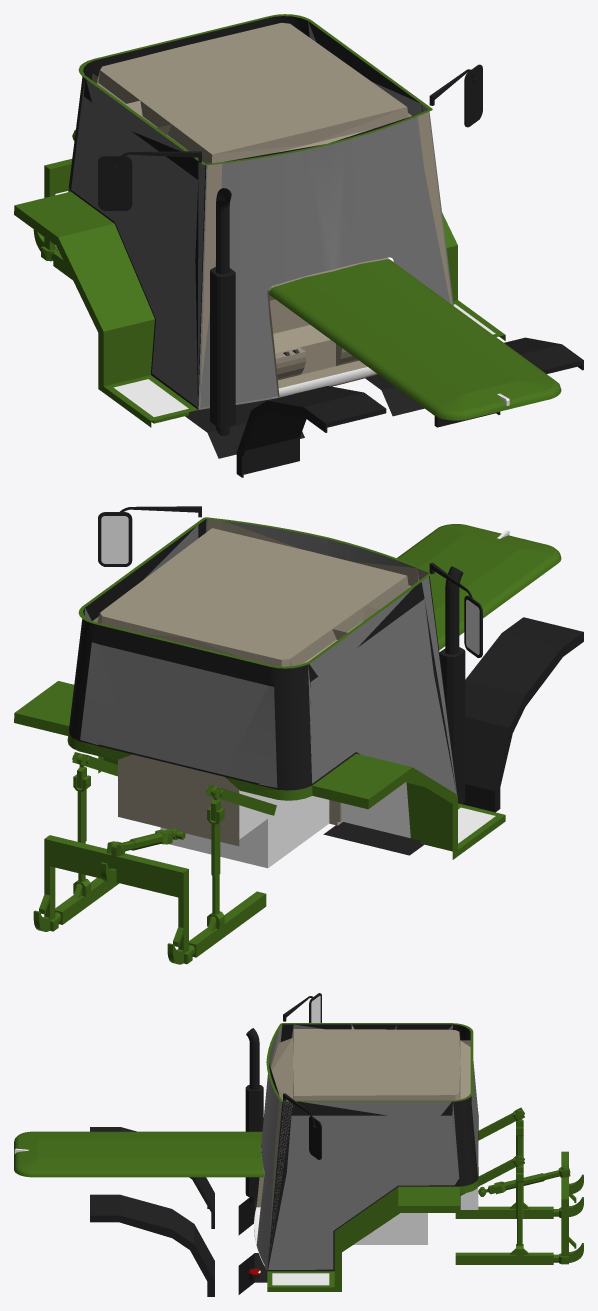
The model's file is Tractor Cab.FBX.
The picture shows the model from 3 angles, top to bottom: view 1: azimuth 30°, elevation 25°; view 2: azimuth 150°, elevation 25°; view 3: azimuth 270°, elevation 25°; orthographic projection. The views are drawn at different scales.
Parts seen in each view (by area): view 1: Group#3#3_001, Group#3#3_003, Group_062, Group_048, Group_063, Group_034, Group_050, Group_060, Group_065, Group_075, Group#147_002; view 2: Group#3#3_001, Group#3#3_003, Group_062, Group_050, Group_048, Group#147_001, Group_034, Group_063, Group_075, Group#147_002, Group_054, Group_060 (+5 smaller); view 3: Group#3#3_003, Group_077, Group#3#3_001, Group_063, Group_048, Group_065, Group_034, Group_069, Group_054, Group#147_001, Group_050, Group_075 (+5 smaller).
Part boxes in pixels (x1,y1,x2,y2): Group#3#3_001: [14, 37, 337, 427]; Group#3#3_003: [182, 14, 505, 384]; Group_062: [71, 78, 205, 407]; Group_048: [185, 271, 508, 457]; Group_063: [334, 259, 561, 416]; Group_034: [185, 188, 304, 458]; Group_050: [236, 386, 386, 477]; Group_060: [98, 151, 201, 210]; Group_065: [434, 337, 583, 427]; Group_075: [429, 64, 482, 127]; Group#147_002: [33, 159, 71, 257]; Group#3#3_001: [178, 537, 505, 868]; Group#3#3_003: [14, 517, 328, 854]; Group_062: [308, 577, 456, 794]; Group_050: [462, 617, 583, 812]; Group_048: [324, 530, 561, 855]; Group#147_001: [33, 837, 188, 963]; Group_034: [323, 566, 465, 855]; Group_063: [397, 524, 507, 585]; Group_075: [98, 506, 201, 566]; Group#147_002: [33, 835, 191, 964]; Group_054: [184, 891, 266, 964]; Group_060: [429, 562, 482, 657]; Group#3#3_003: [254, 1062, 478, 1291]; Group_077: [268, 1101, 459, 1269]; Group#3#3_001: [254, 1023, 478, 1226]; Group_063: [14, 1149, 267, 1294]; Group_048: [14, 1131, 262, 1221]; Group_065: [90, 1194, 214, 1296]; Group_034: [238, 1028, 263, 1235]; Group_069: [455, 1248, 568, 1264]; Group_054: [455, 1202, 561, 1218]; Group#147_001: [561, 1151, 583, 1263]; Group_050: [90, 1127, 214, 1228]; Group_075: [283, 1093, 321, 1159].
Size of the model in its own units: 124 by 87.02 by 227.
